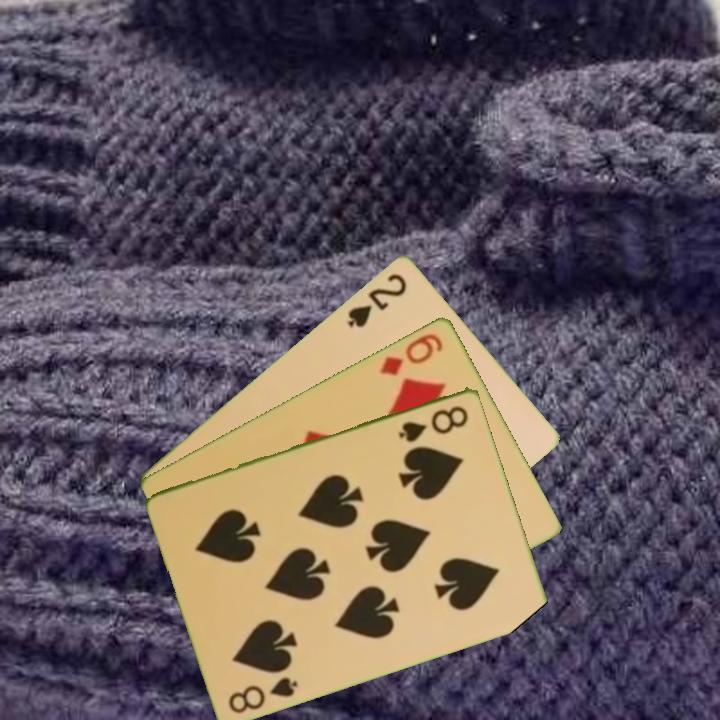2s: (344, 269, 410, 330)
6d: (376, 329, 446, 378)
8s: (225, 672, 301, 716), (395, 402, 471, 445)
